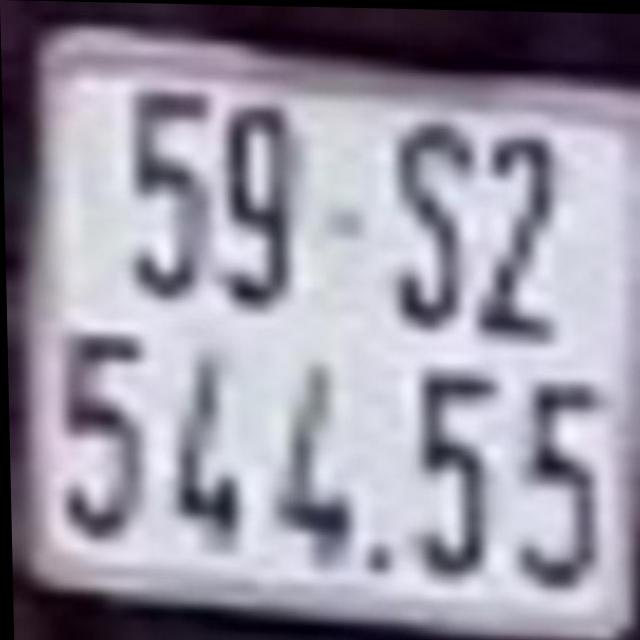2: (477, 125, 563, 335)
4: (273, 348, 363, 574), (176, 341, 246, 567)
5: (44, 314, 154, 548), (514, 364, 618, 594), (119, 79, 211, 302), (409, 358, 500, 583)
9: (220, 88, 295, 313)
S: (390, 108, 472, 326)
